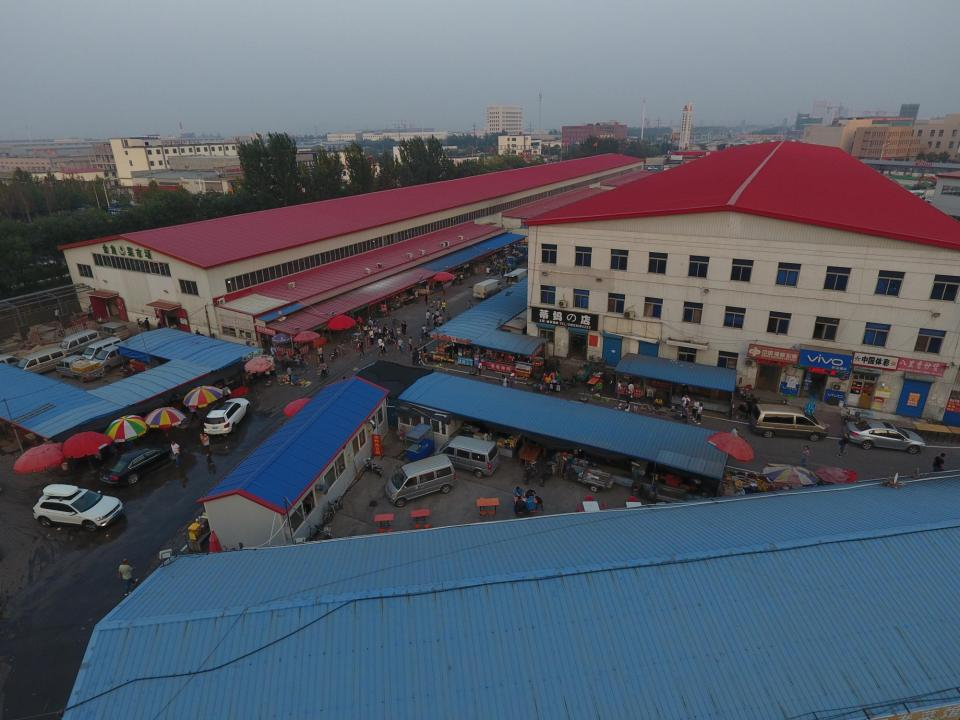car: (32, 483, 123, 532), (99, 440, 179, 485), (843, 419, 925, 454), (204, 398, 250, 436), (118, 558, 138, 596)
truck: (55, 356, 105, 382), (504, 246, 528, 264)
van: (385, 453, 456, 507), (750, 404, 828, 441), (434, 436, 500, 478), (16, 347, 67, 374), (58, 329, 102, 357), (91, 342, 130, 372), (80, 336, 122, 362), (96, 322, 130, 340), (473, 278, 503, 298), (504, 268, 528, 286)
